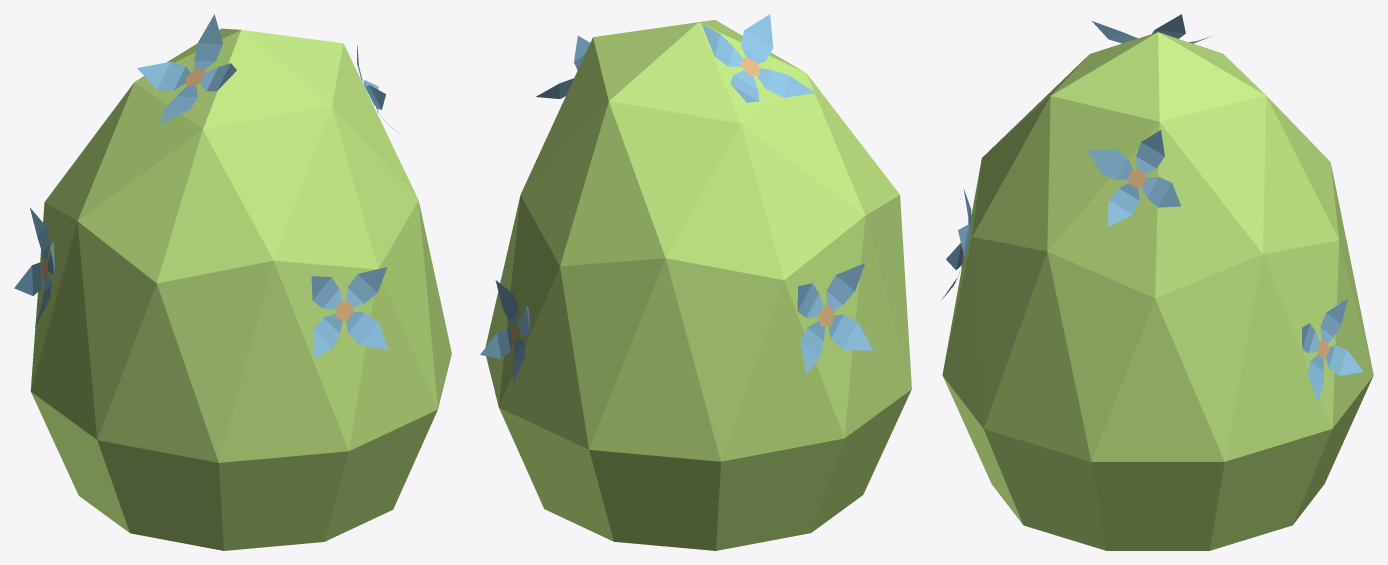
The model's file is FlowerBush_h_m_04.fbx.
The picture shows the model from 3 angles, left to right: view 1: azimuth 30°, elevation 25°; view 2: azimuth 150°, elevation 25°; view 3: azimuth 270°, elevation 25°; orthographic projection.
Visible parts, largest first — view 1: FlowerBush_h_m_04; view 2: FlowerBush_h_m_04; view 3: FlowerBush_h_m_04.
Part boxes in pixels (x1,y1,x2,y2): FlowerBush_h_m_04: (14,14,451,550); FlowerBush_h_m_04: (480,14,911,550); FlowerBush_h_m_04: (942,14,1373,550).
Bounding box in the file's own units: 1.21 × 1.46 × 1.24.
